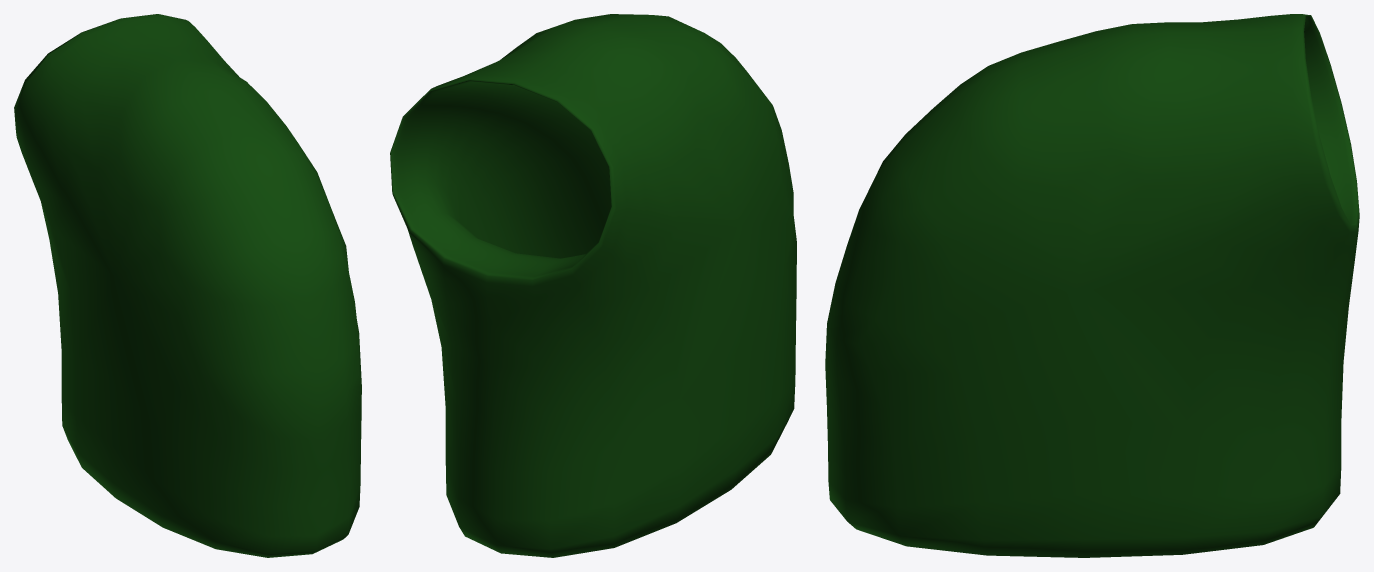
File: prullenbak.fbx
The picture shows the model from 3 angles, left to right: view 1: azimuth 30°, elevation 25°; view 2: azimuth 150°, elevation 25°; view 3: azimuth 270°, elevation 25°; orthographic projection. The views are drawn at different scales.
Visible parts, largest first — view 1: Cube.001; view 2: Cube.001; view 3: Cube.001.
Part boxes in pixels (left/top/right/bottom): Cube.001: left=14, top=14, right=361, bottom=557; Cube.001: left=390, top=14, right=796, bottom=557; Cube.001: left=825, top=14, right=1359, bottom=557.
Bounding box in the file's own units: 98.89 × 189 × 191.
